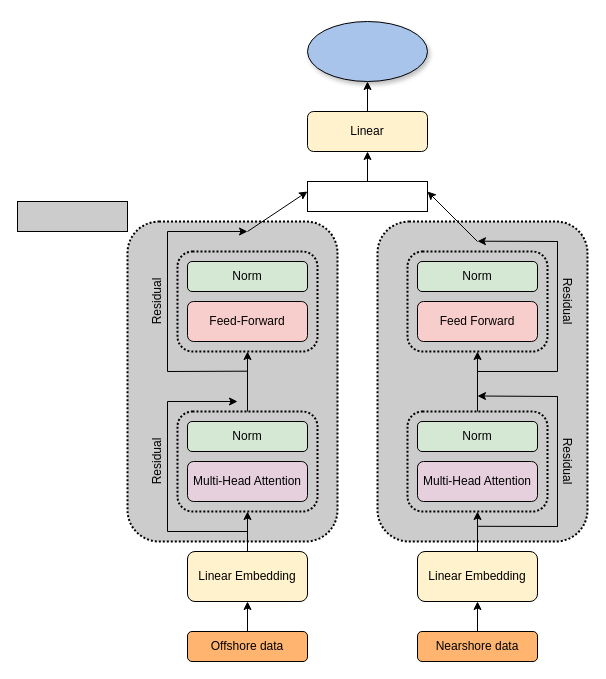
Some shapes in this 606 by 679 pixel diagram are drawn without their labels. Here are the shapes that lost their labels. From the top down, the centre of each, then its label:
At point 368,52: "Prediction".
At point 72,216: "2x Transformer Layers".
At point 367,196: "Concatenate".
